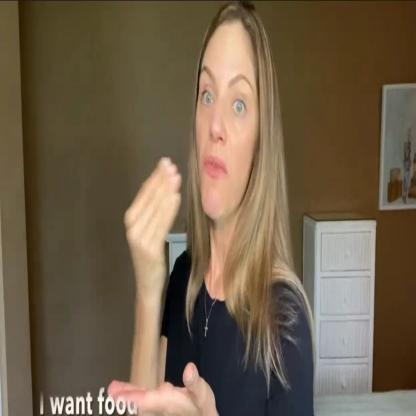Food: (118, 5, 276, 294)
